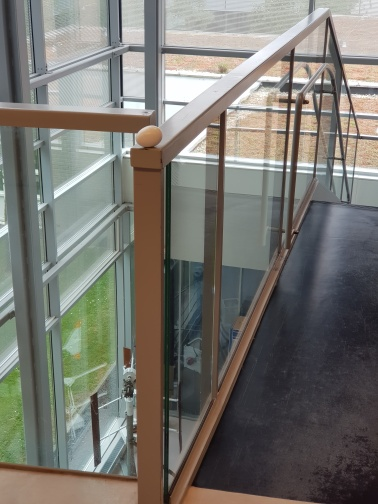egg: (132, 123, 165, 149)
